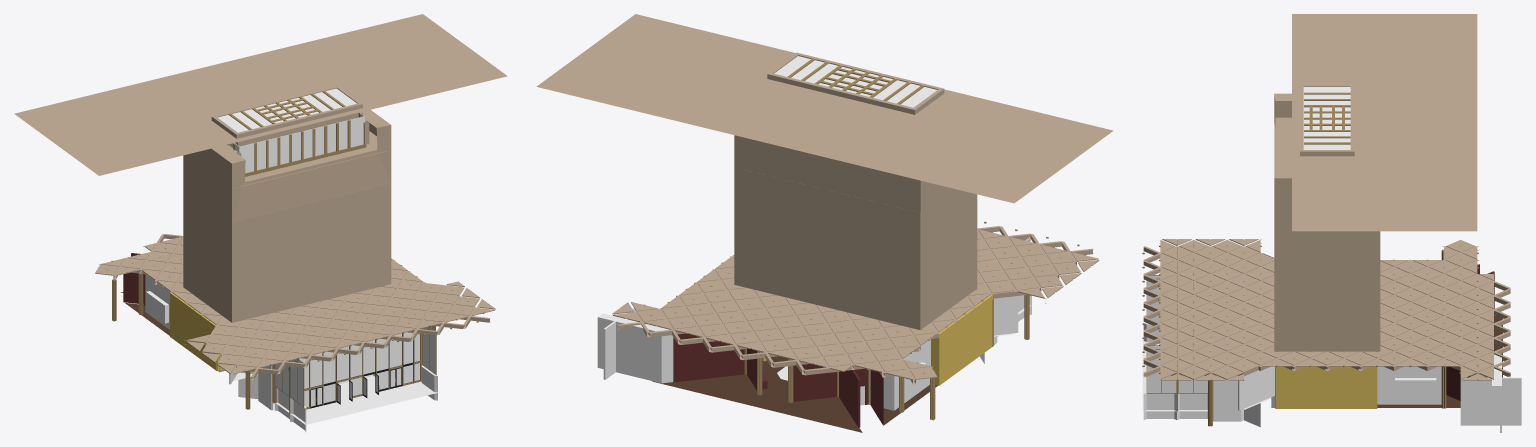
The model's file is ChanceryRosewood-Lobby-V1.glb.
3 views of the same model, side by side, from view 1: azimuth 30°, elevation 25°; view 2: azimuth 150°, elevation 25°; view 3: azimuth 270°, elevation 25° (orthographic). The views are drawn at different scales.
Visible parts, largest first — view 1: ATRIUM, LOBBY, ENTRANCE; view 2: ATRIUM, LOBBY, ENTRANCE; view 3: ATRIUM, LOBBY, ENTRANCE.
Part boxes in pixels (x1,y1,x2,y2): ATRIUM: (14,14,507,322); LOBBY: (95,234,495,384); ENTRANCE: (228,326,437,432); ATRIUM: (536,14,1113,330); LOBBY: (597,221,1099,432); ENTRANCE: (980,236,1031,363); ATRIUM: (1274,14,1477,351); LOBBY: (1142,239,1521,432); ENTRANCE: (1142,275,1271,427).
Bounding box in the file's own units: 52.4 × 30.4 × 38.64.
Materials: 31 (4 with a texture image).
